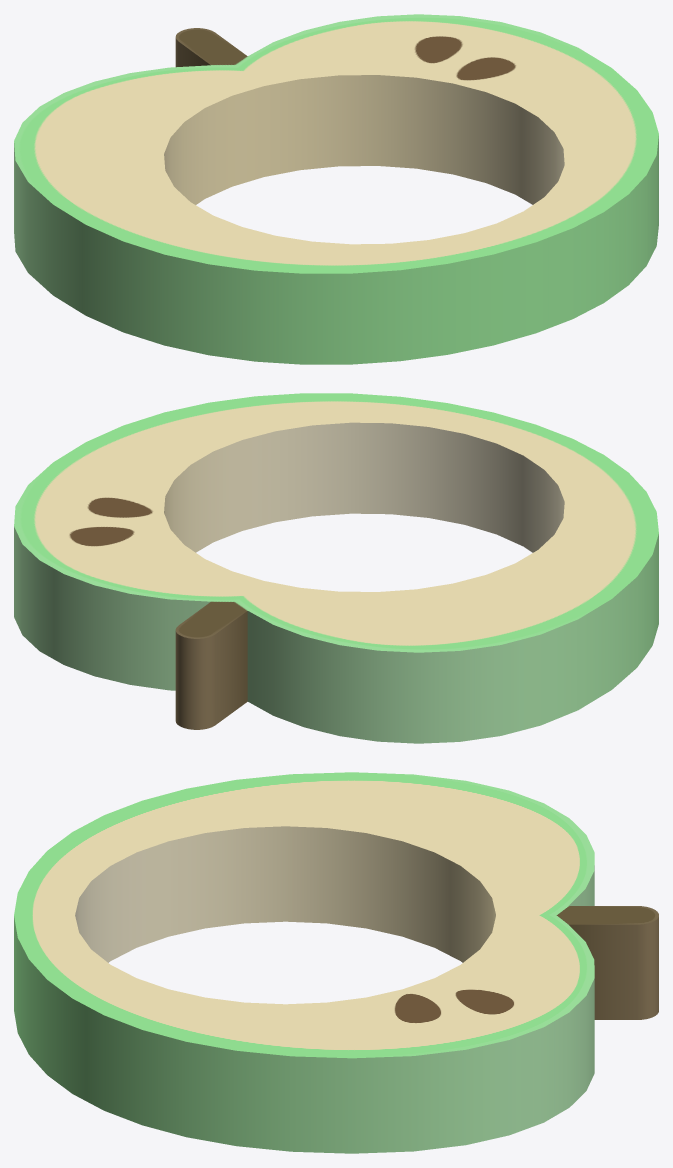
File: apple.FBX
3 views of the same model, one above another, from view 1: azimuth 30°, elevation 25°; view 2: azimuth 150°, elevation 25°; view 3: azimuth 270°, elevation 25° (orthographic). The views are drawn at different scales.
Visible parts, largest first — view 1: Apple; view 2: Apple; view 3: Apple.
Boxes of the visible parts, x1=… form: Apple: x1=14, y1=14, x2=658, y2=364; Apple: x1=14, y1=393, x2=658, y2=743; Apple: x1=14, y1=772, x2=658, y2=1153.
Size of the model in its own units: 45.01 by 7 by 42.89.
Materials: 1 (1 with a texture image).
